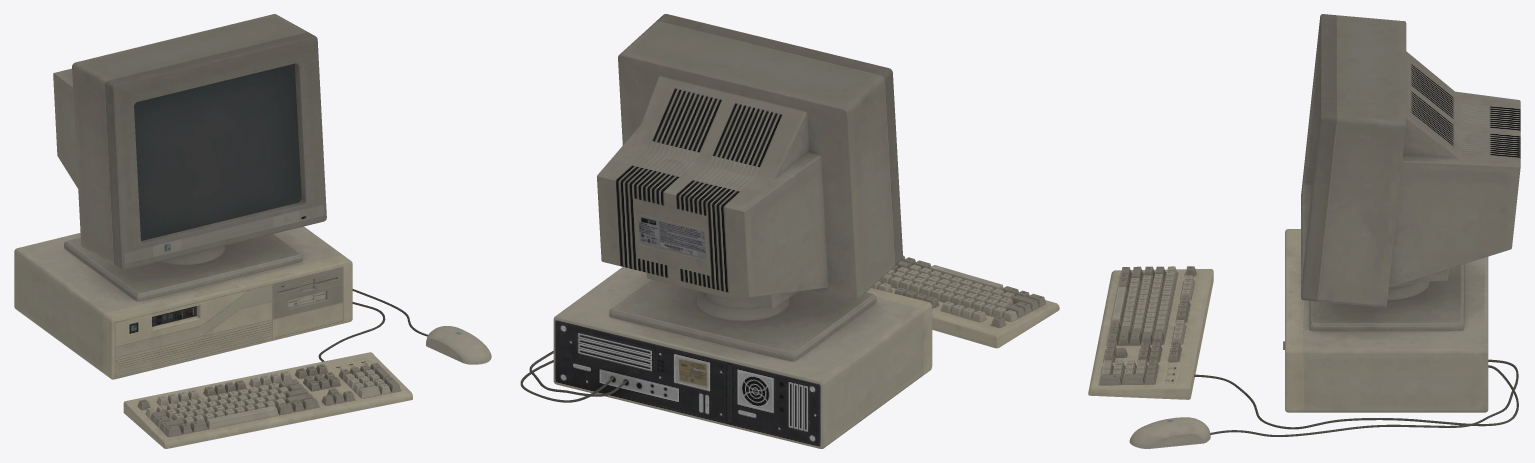
Rendered from opti_com.glb.
The picture shows the model from 3 angles, left to right: view 1: azimuth 30°, elevation 25°; view 2: azimuth 150°, elevation 25°; view 3: azimuth 270°, elevation 25°; orthographic projection. The views are drawn at different scales.
Visible parts, largest first — view 1: block, Screen; view 2: block; view 3: block.
Boxes of the visible parts, x1,y1,x2,y2 form: block: [14, 14, 491, 448]; Screen: [134, 63, 301, 240]; block: [520, 14, 1059, 448]; block: [1088, 14, 1520, 448].
Size of the model in its own units: 0.6904 by 0.5384 by 0.7303.
1 material, 1 textured.
